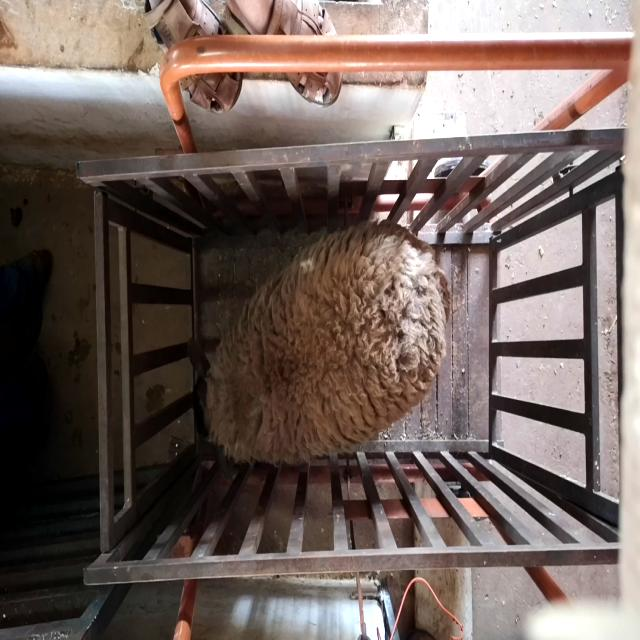sheep: (188, 222, 450, 478)
